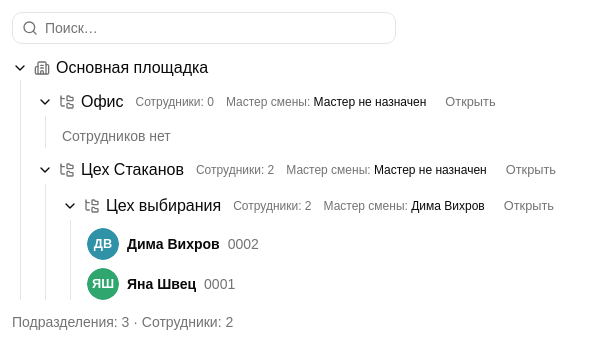
Test: OrgTree › narrows the tree to matching people and reports when nothing matches
This screenshot has width=594, height=347.
Step 1. Type "швец" into the search field → (204, 28), box x1=12 y1=12 x2=396 y2=44
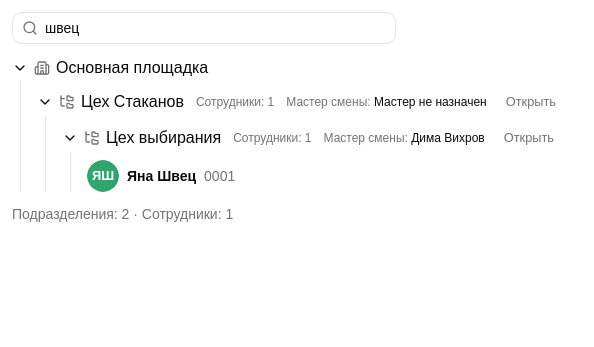
Expected: the link "ЯШ Яна Швец" is shown, x1=87 y1=160 x2=196 y2=192
Result: the button "Офис" is gone
Step 2. Replace the text in the search field with "нет такого" → (204, 28), box x1=12 y1=12 x2=396 y2=44
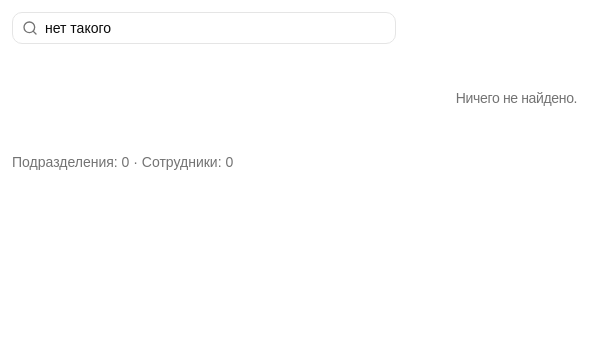
Result: the text "Ничего не найдено." is shown at x1=456 y1=88 x2=577 y2=108
